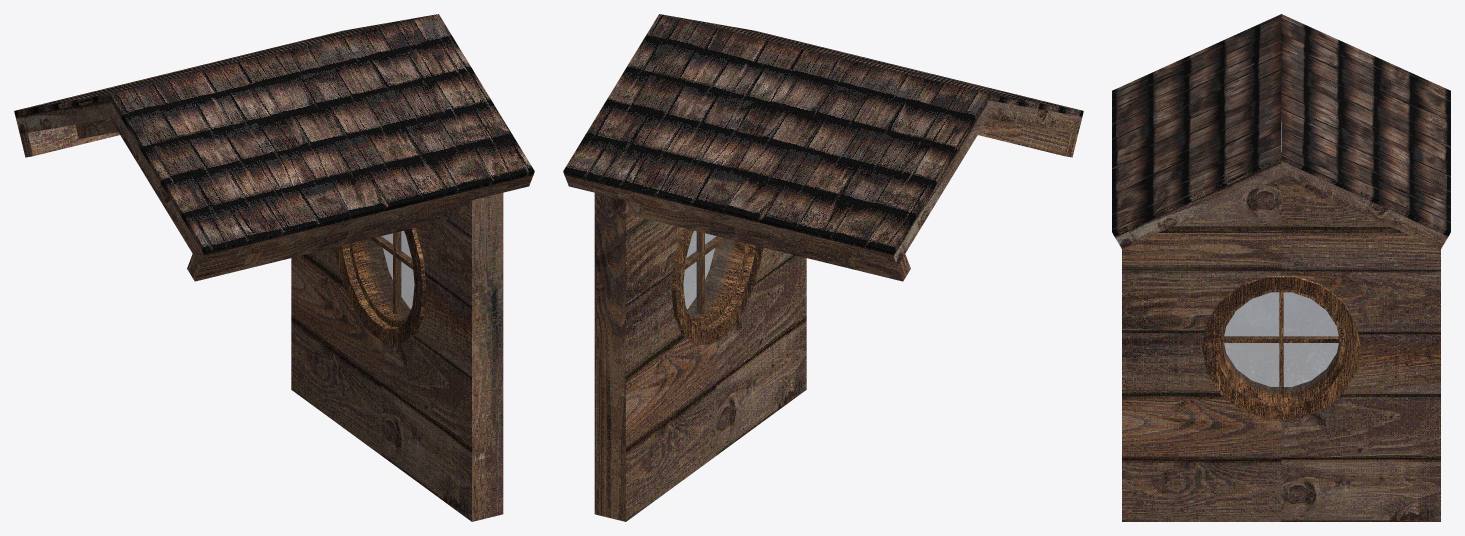
File: roof-top-windowR.glb
The picture shows the model from 3 angles, left to right: view 1: azimuth 30°, elevation 25°; view 2: azimuth 150°, elevation 25°; view 3: azimuth 270°, elevation 25°; orthographic projection. The views are drawn at different scales.
Parts seen in each view (by area): view 1: roof-top-windowR.001; view 2: roof-top-windowR.001; view 3: roof-top-windowR.001.
Part boxes in pixels (x1=…): roof-top-windowR.001: x1=14, y1=14, x2=534, y2=521; roof-top-windowR.001: x1=563, y1=14, x2=1083, y2=521; roof-top-windowR.001: x1=1112, y1=14, x2=1450, y2=521.
Bounding box in the file's own units: 2.1 × 2.61 × 2.13.
Materials: 4 (4 with a texture image).
